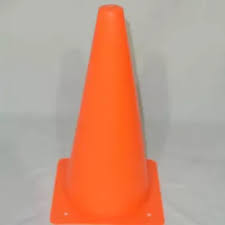cones: (49, 7, 165, 225)
